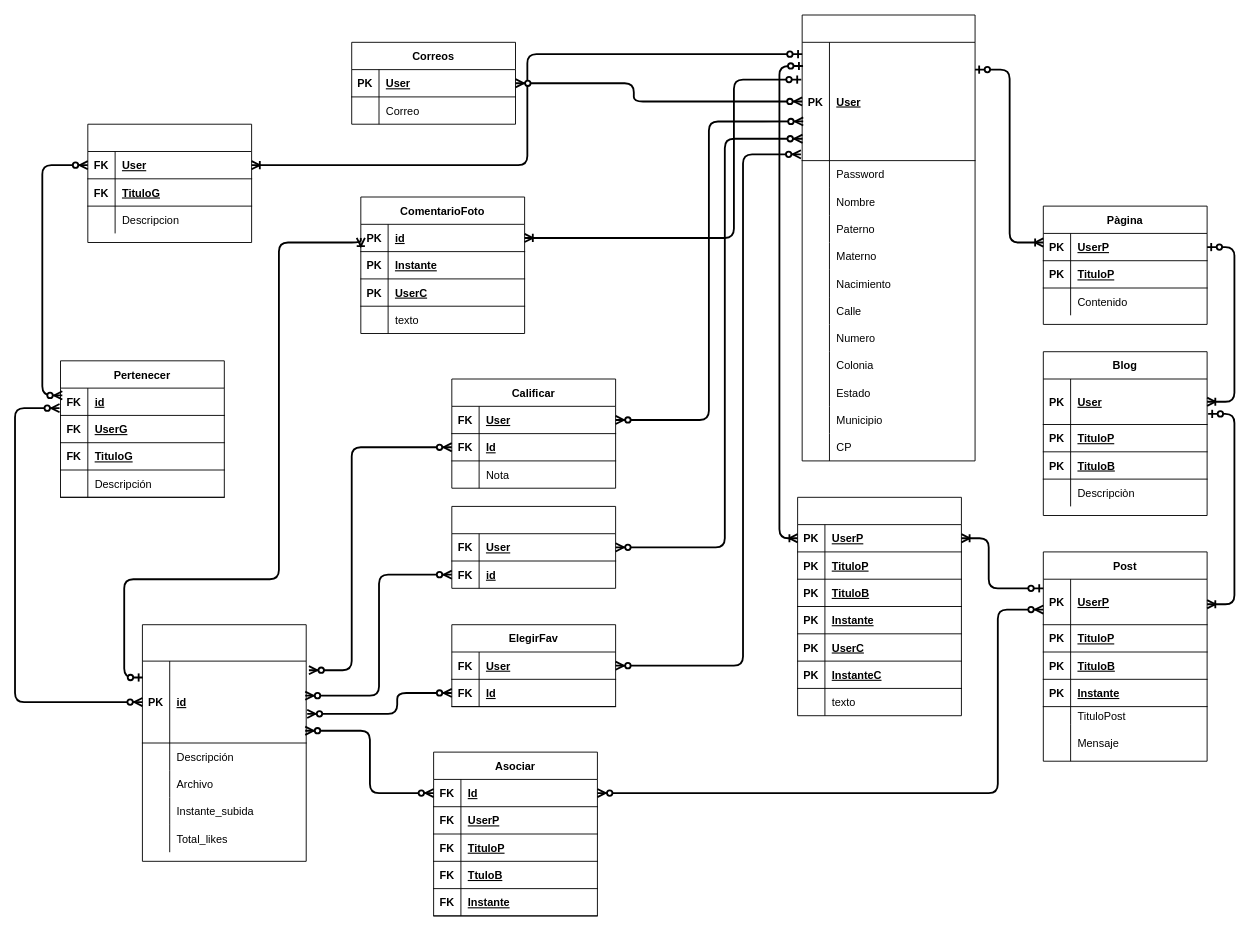
This 1249x931 diagram has some shape labels left out. The box of each missing label's shape, as (x1, y1, x2, y2) in pixels:
ComentarioPost: (797, 496, 961, 716)
Fotografía: (142, 624, 306, 861)
Galeria: (87, 123, 252, 243)
Subir: (451, 506, 616, 588)
Usuario: (801, 14, 975, 461)
